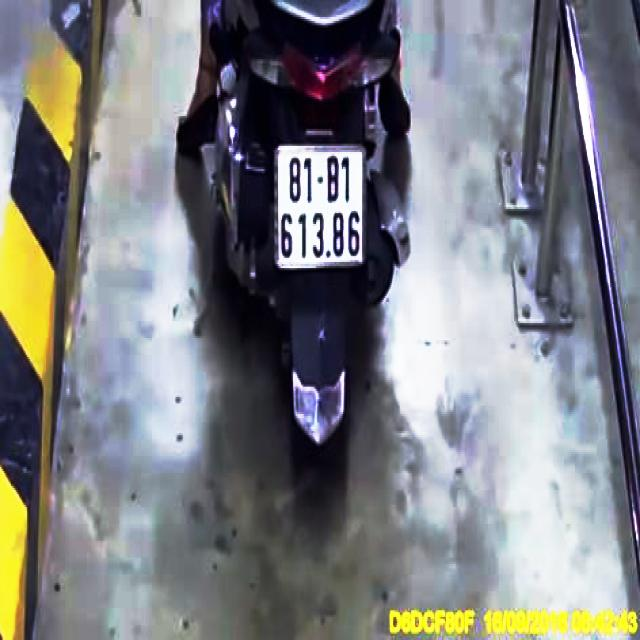license_plate: (277, 145, 369, 266)
